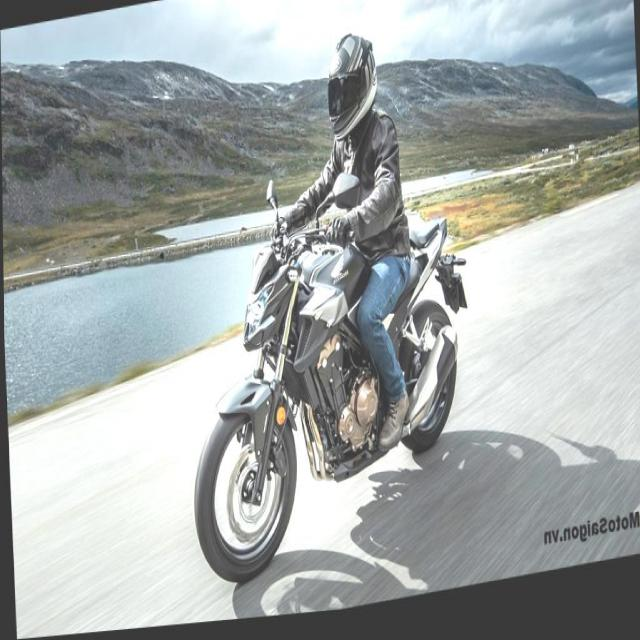CB500F: (182, 216, 471, 599)
